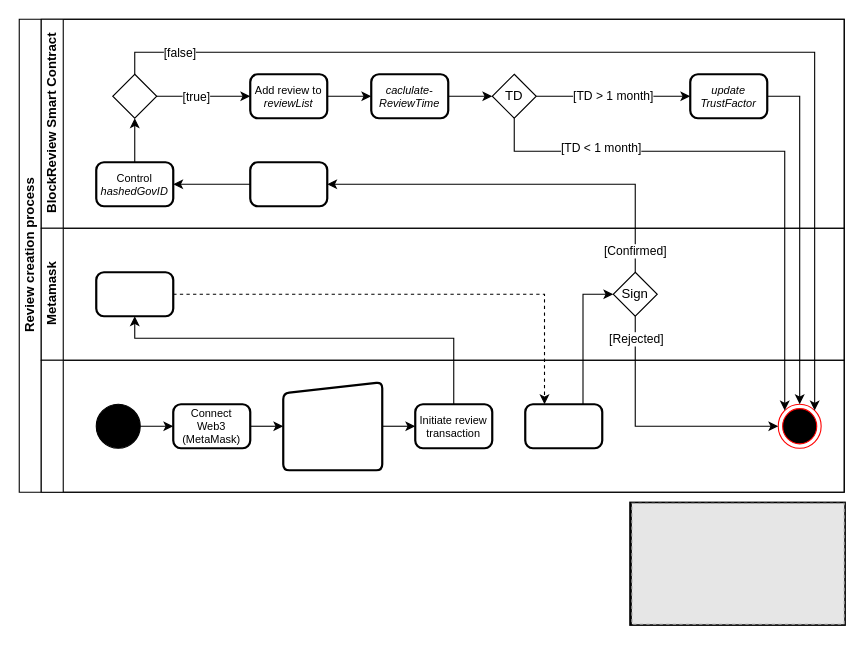
Some shapes in this 865 by 645 pixel diagram are drawn without their labels. Grey dashed boxes stand in for pictures. Each missing label, with the box of its shape:
Auth: (112, 73, 157, 118)
Input Review address Rating r Comment: (282, 381, 383, 471)
Prompt transaction confirmation: (95, 271, 174, 317)
reviewUser: (249, 161, 328, 207)
Sign initiated transaction: (524, 403, 603, 449)
Website/User: (40, 359, 844, 492)
